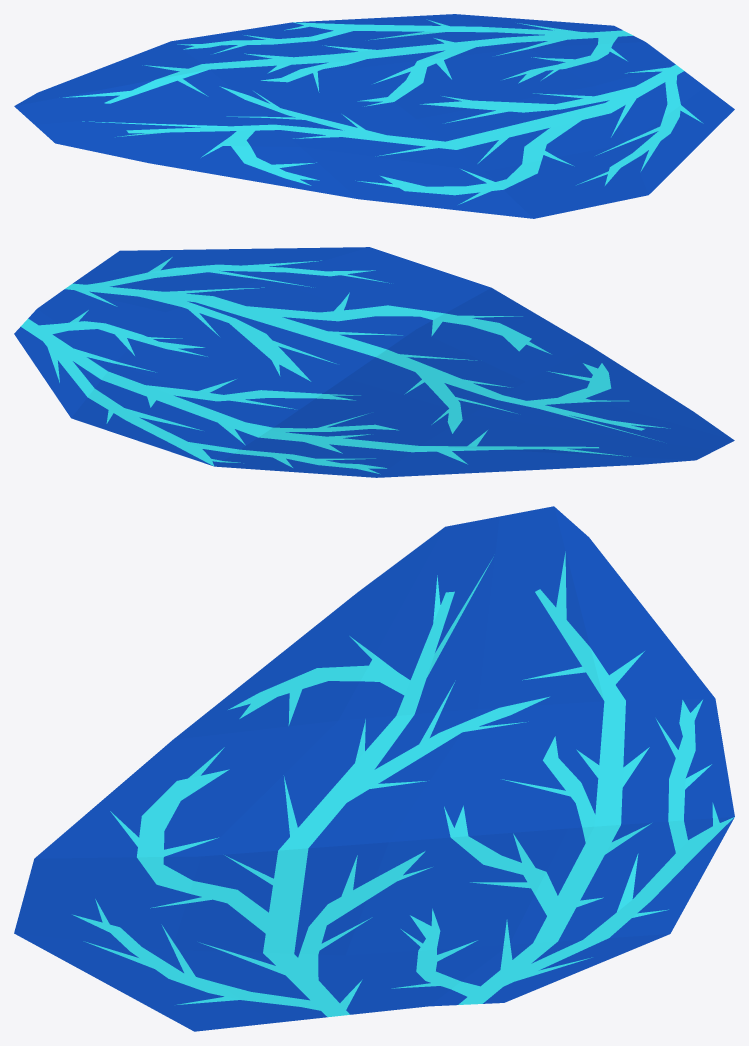
File: YellowButterflyWing.obj
The picture shows the model from 3 angles, top to bottom: view 1: azimuth 30°, elevation 25°; view 2: azimuth 150°, elevation 25°; view 3: azimuth 270°, elevation 25°; orthographic projection. The views are drawn at different scales.
Parts seen in each view (by area): view 1: LeftWing; view 2: LeftWing; view 3: LeftWing.
Part boxes in pixels (x1,y1,x2,y2): LeftWing: (14, 14, 734, 218); LeftWing: (14, 247, 734, 477); LeftWing: (14, 506, 734, 1031).
Bounding box in the file's own units: 0.0706 × 0.00774 × 0.0495.
